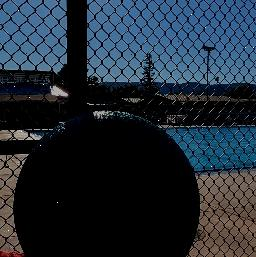algae: (7, 106, 203, 257)
